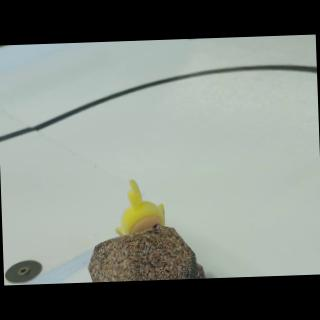teletubby: (116, 179, 165, 235)
